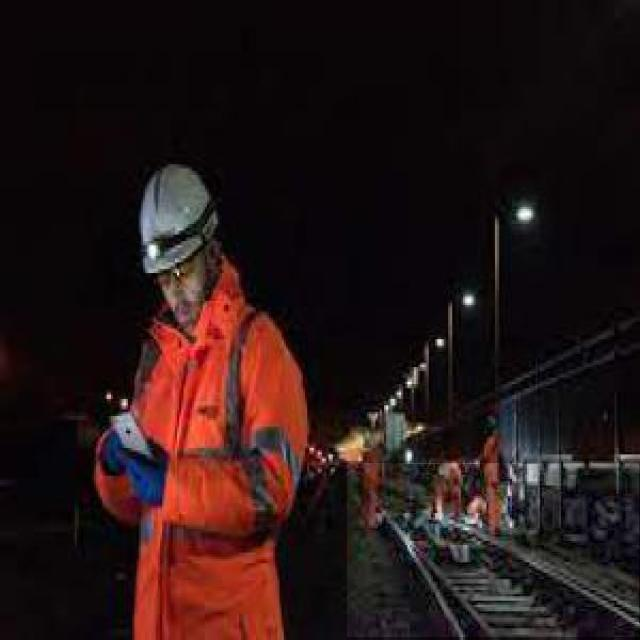rail: (348, 464, 640, 638)
